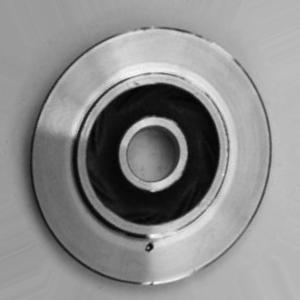pit: (140, 239, 158, 255)
scratch: (200, 35, 243, 66), (133, 269, 198, 289), (147, 221, 183, 242)
unpolished_casting: (30, 27, 273, 288)
